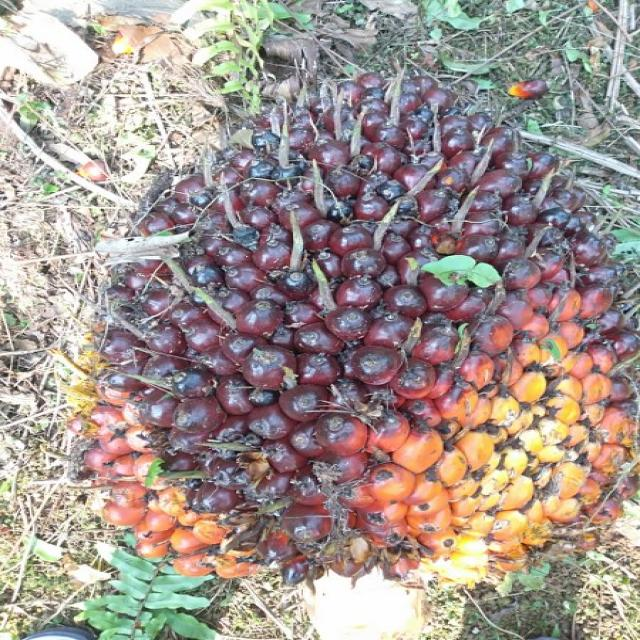fraksi 1: (61, 47, 640, 596)
